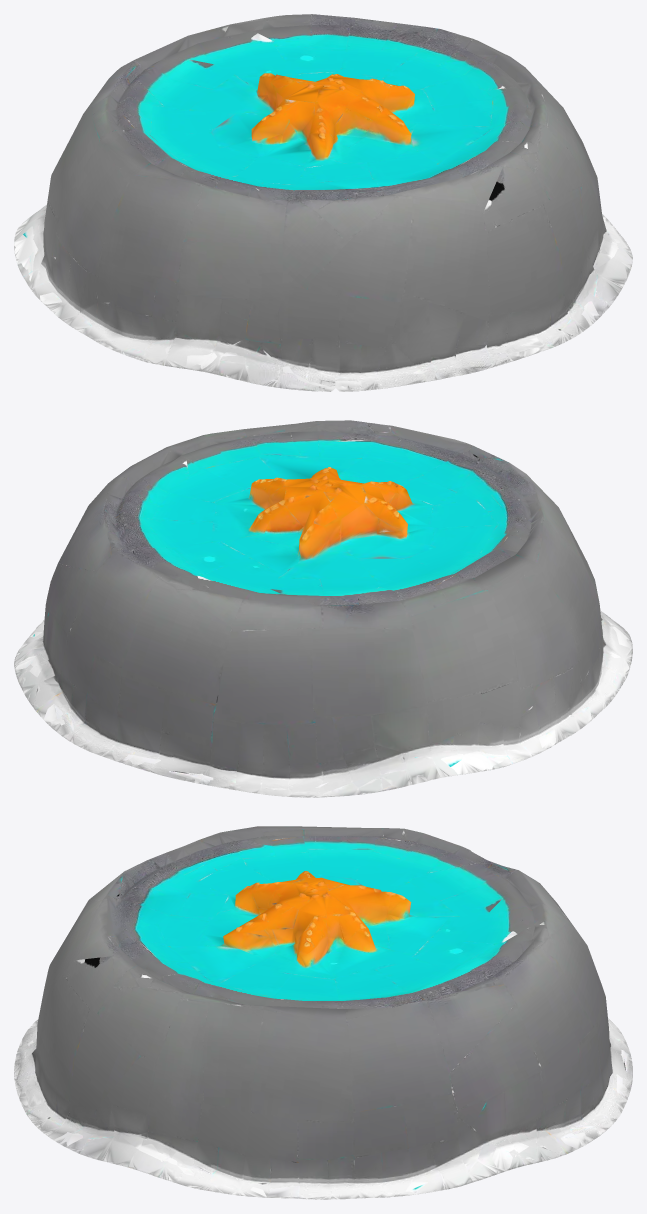
File: boulder_wet.glb
The picture shows the model from 3 angles, top to bottom: view 1: azimuth 30°, elevation 25°; view 2: azimuth 150°, elevation 25°; view 3: azimuth 270°, elevation 25°; orthographic projection.
Size of the model in its own units: 1.87 by 0.6538 by 1.9.
1 material, 1 textured.
